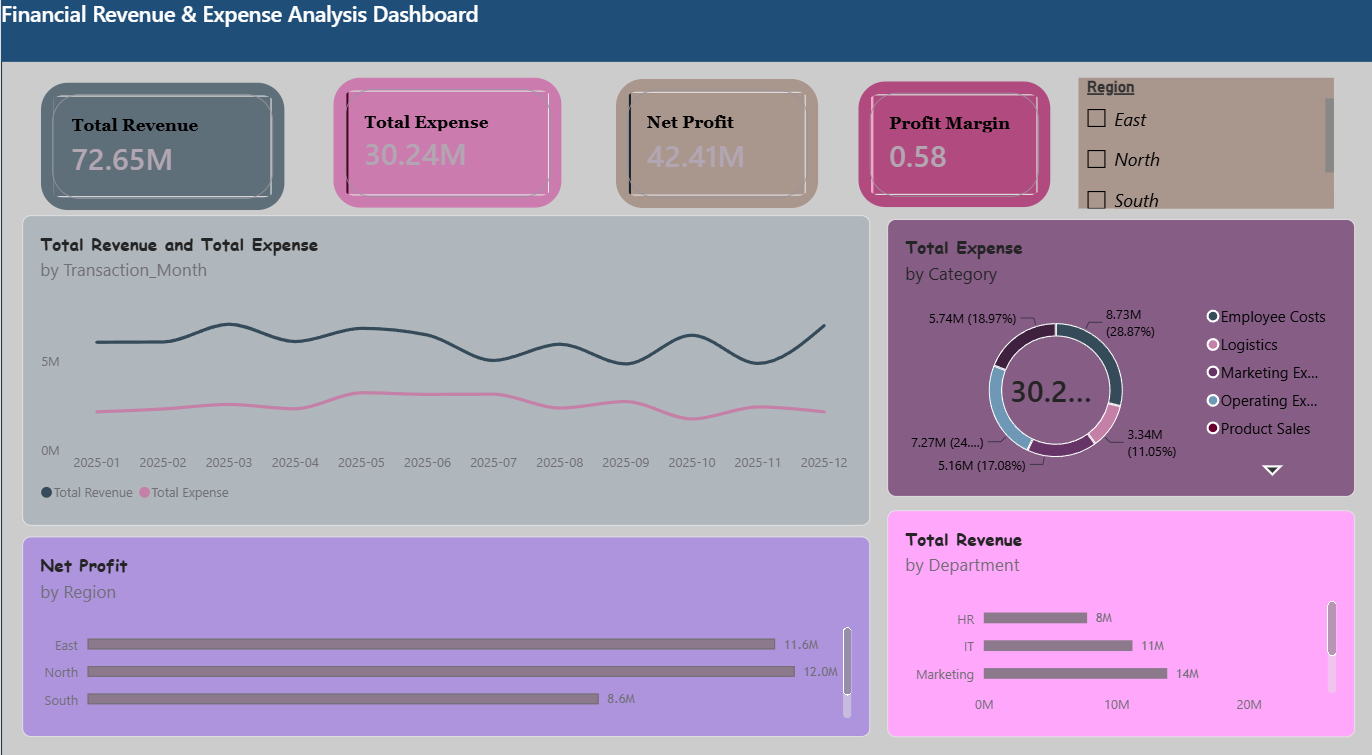

This screenshot's page, from the dashboard's own definition file:
{"tool":"powerbi","page":{"name":"Financial Detail & Trends","canvas":[1280,720],"ordinal":1},"visuals":[{"type":"shape","box":[0,57.5,1280,650],"z":0,"group":"g1"},{"type":"donutChart","title":"Expense Mix by Category","fields":{"Category":["FinancialTransactions.Category"],"Y":["FinancialTransactions.Total Expense"]},"box":[825,205.2,435,258.8],"z":1000,"group":"g1"},{"type":"slicer","title":"Filter: Region","fields":{"Values":["FinancialTransactions.Region"]},"box":[1002.5,73.8,237.5,121.2],"z":2000,"group":"g1"},{"type":"cardVisual","title":"Total Expenses","fields":{"Data":["FinancialTransactions.Total Expense"]},"box":[308.8,73.8,212.5,121.2],"z":3000,"group":"g1"},{"type":"lineChart","title":"Monthly Revenue vs Expenses","fields":{"Category":["FinancialTransactions.Transaction_Month"],"Y":["FinancialTransactions.Total Revenue","FinancialTransactions.Total Expense"]},"box":[20,201.4,788.8,288.8],"z":4000,"group":"g1"},{"type":"cardVisual","title":"Profit Margin","fields":{"Data":["FinancialTransactions.Profit Margin"]},"box":[797.7,76.7,178.8,117.5],"z":5000,"group":"g1"},{"type":"clusteredBarChart","title":"Revenue by Department","fields":{"Category":["FinancialTransactions.Department"],"Y":["FinancialTransactions.Total Revenue"]},"box":[825,475.2,435,211.2],"z":6000,"group":"g1"},{"type":"cardVisual","title":"Net Profit","fields":{"Data":["FinancialTransactions.Net Profit"]},"box":[572.5,74.4,188.8,120],"z":7000,"group":"g1"},{"type":"clusteredBarChart","title":"Net Profit by Region","fields":{"Category":["FinancialTransactions.Region"],"Y":["FinancialTransactions.Net Profit"]},"box":[20,500.2,788.8,186.2],"z":8000,"group":"g1"},{"type":"cardVisual","title":"Total Revenue","fields":{"Data":["FinancialTransactions.Total Revenue"]},"box":[37.5,77.5,226.2,118.8],"z":9000,"group":"g1"},{"type":"textbox","box":[0,0,1280,58],"z":10000,"group":"g1"},{"type":"group","id":"g1","title":"Group 1","box":[0,0,1280,707.5],"z":10001}]}

Visuals, with their boxes in screenshot pixels (x1, y1, x2, y2), scaled from the page's 1280x720 canvas onto the 1372x755 screenshot:
shape: region(0, 60, 1371, 742)
"Expense Mix by Category" donutChart: region(884, 215, 1351, 487)
"Filter: Region" slicer: region(1075, 77, 1329, 204)
"Total Expenses" cardVisual: region(331, 77, 559, 204)
"Monthly Revenue vs Expenses" lineChart: region(21, 211, 867, 514)
"Profit Margin" cardVisual: region(855, 80, 1047, 204)
"Revenue by Department" clusteredBarChart: region(884, 498, 1351, 720)
"Net Profit" cardVisual: region(614, 78, 816, 204)
"Net Profit by Region" clusteredBarChart: region(21, 525, 867, 720)
"Total Revenue" cardVisual: region(40, 81, 283, 206)
textbox: region(0, 0, 1371, 61)
"Group 1" group: region(0, 0, 1371, 742)
